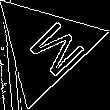M_SW: (11, 13, 80, 81)
